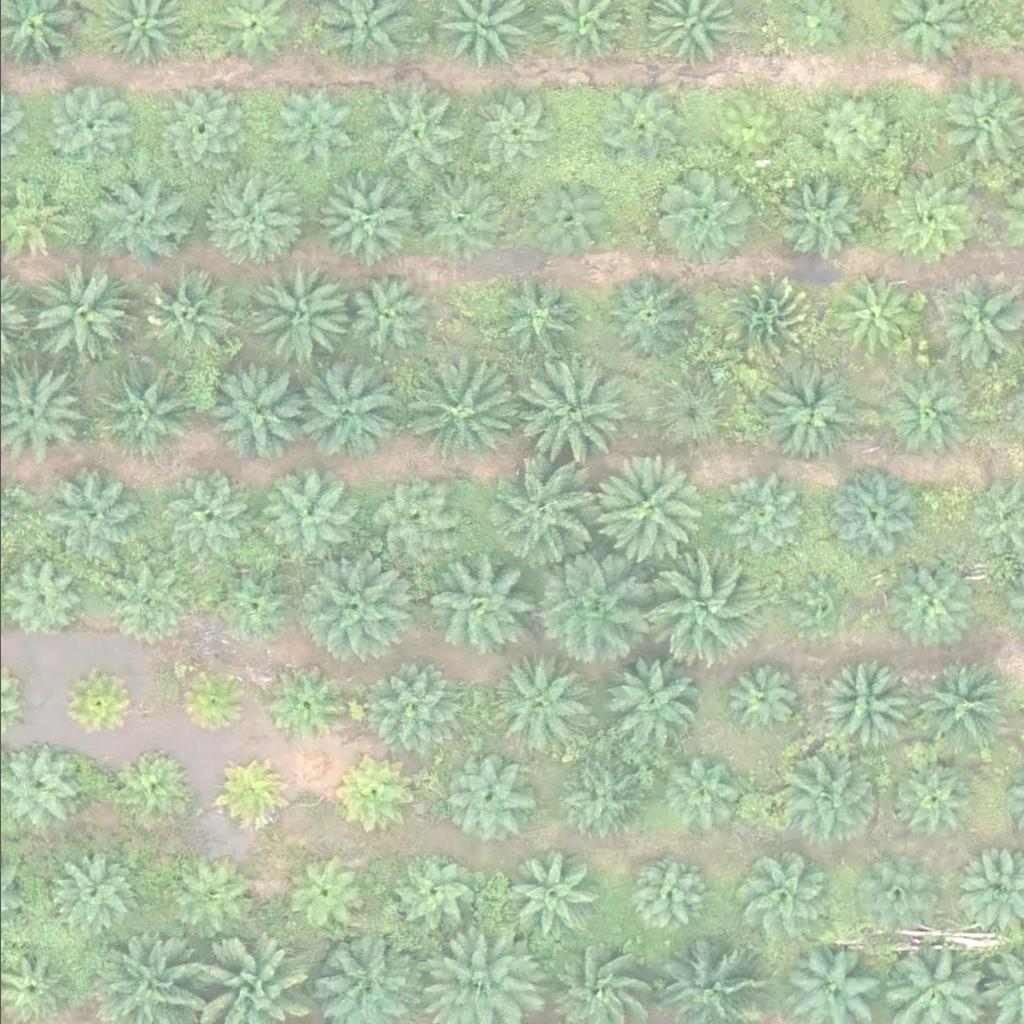Kelapa_Sawit: (509, 353, 623, 466), (533, 548, 646, 661), (423, 549, 536, 662), (300, 550, 413, 663), (487, 459, 600, 572), (591, 455, 704, 568), (396, 349, 509, 462), (642, 555, 756, 667), (495, 847, 596, 947), (779, 742, 880, 842), (491, 651, 592, 751), (819, 469, 920, 569), (762, 361, 863, 461), (292, 358, 393, 458), (209, 363, 310, 463), (36, 263, 137, 363), (92, 362, 193, 462), (40, 469, 141, 569), (244, 265, 345, 365), (207, 169, 308, 269), (881, 171, 982, 271), (877, 361, 978, 461), (911, 658, 1012, 758), (813, 656, 913, 756), (597, 650, 697, 750), (651, 165, 751, 265), (716, 274, 816, 374), (90, 170, 190, 270), (362, 86, 462, 186), (621, 849, 710, 937), (45, 78, 134, 166), (210, 560, 298, 648), (92, 560, 180, 648), (732, 857, 820, 945), (659, 751, 747, 839), (642, 363, 730, 451), (526, 175, 614, 263), (496, 268, 584, 356), (282, 846, 370, 934), (159, 851, 247, 939), (254, 470, 342, 558), (162, 471, 250, 559), (711, 472, 799, 560), (826, 268, 914, 356), (603, 273, 691, 361), (346, 273, 434, 361), (464, 89, 552, 177), (261, 81, 349, 169), (157, 85, 245, 173), (805, 86, 893, 174), (554, 754, 642, 841), (384, 849, 472, 936), (50, 850, 138, 937), (374, 664, 462, 751), (443, 751, 531, 838), (365, 476, 453, 563), (140, 268, 228, 355), (775, 168, 863, 255), (417, 174, 505, 261), (593, 82, 681, 169), (316, 177, 404, 264), (692, 78, 780, 165), (879, 564, 967, 651), (887, 757, 975, 844), (721, 661, 797, 736), (116, 745, 192, 820), (854, 861, 930, 936), (63, 667, 139, 742), (212, 760, 288, 835), (271, 670, 346, 745), (174, 662, 249, 737), (335, 760, 410, 835), (790, 572, 853, 634)
